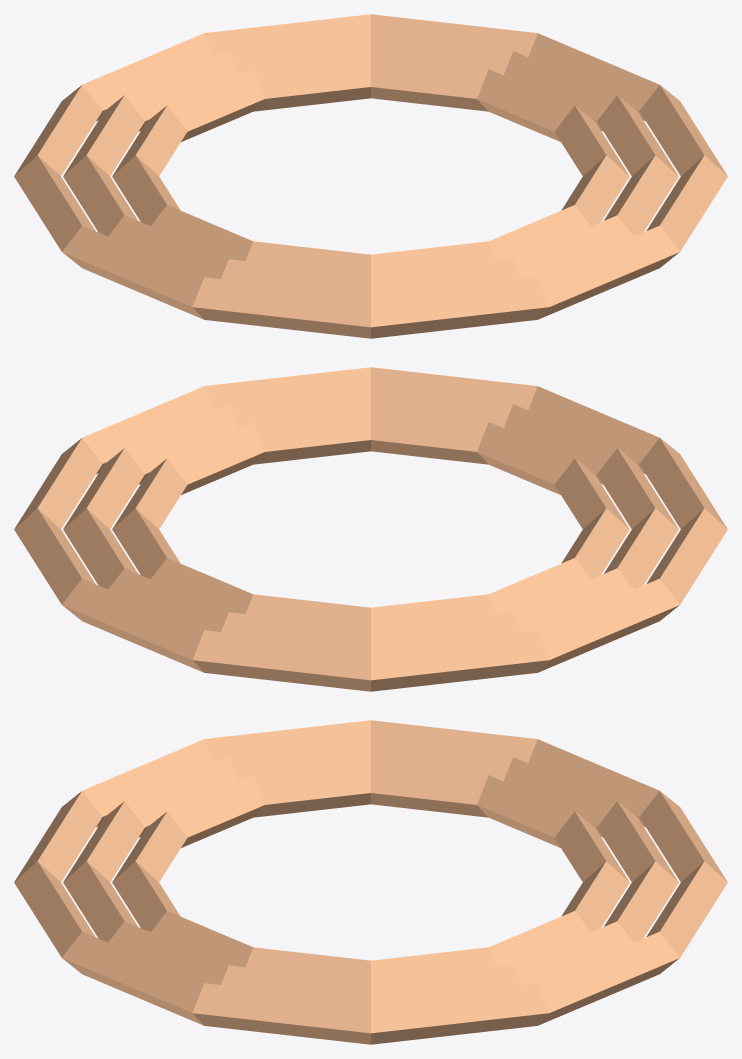
3 views of the same model, one above another, from view 1: azimuth 30°, elevation 25°; view 2: azimuth 150°, elevation 25°; view 3: azimuth 270°, elevation 25° (orthographic).
Parts seen in each view (by area): view 1: Rope coil.002, Rope coil, Rope coil.001; view 2: Rope coil.002, Rope coil, Rope coil.001; view 3: Rope coil.002, Rope coil, Rope coil.001.
Part boxes in pixels (left/top/right/bottom): Rope coil.002: left=14, top=14, right=727, bottom=338; Rope coil: left=112, top=55, right=629, bottom=275; Rope coil.001: left=63, top=35, right=678, bottom=295; Rope coil.002: left=14, top=367, right=727, bottom=691; Rope coil: left=112, top=408, right=629, bottom=628; Rope coil.001: left=63, top=388, right=678, bottom=648; Rope coil.002: left=14, top=720, right=727, bottom=1044; Rope coil: left=112, top=761, right=629, bottom=981; Rope coil.001: left=63, top=741, right=678, bottom=1001.
Bounding box in the file's own units: 0.364 × 0.024 × 0.364.
1 material, 1 textured.
